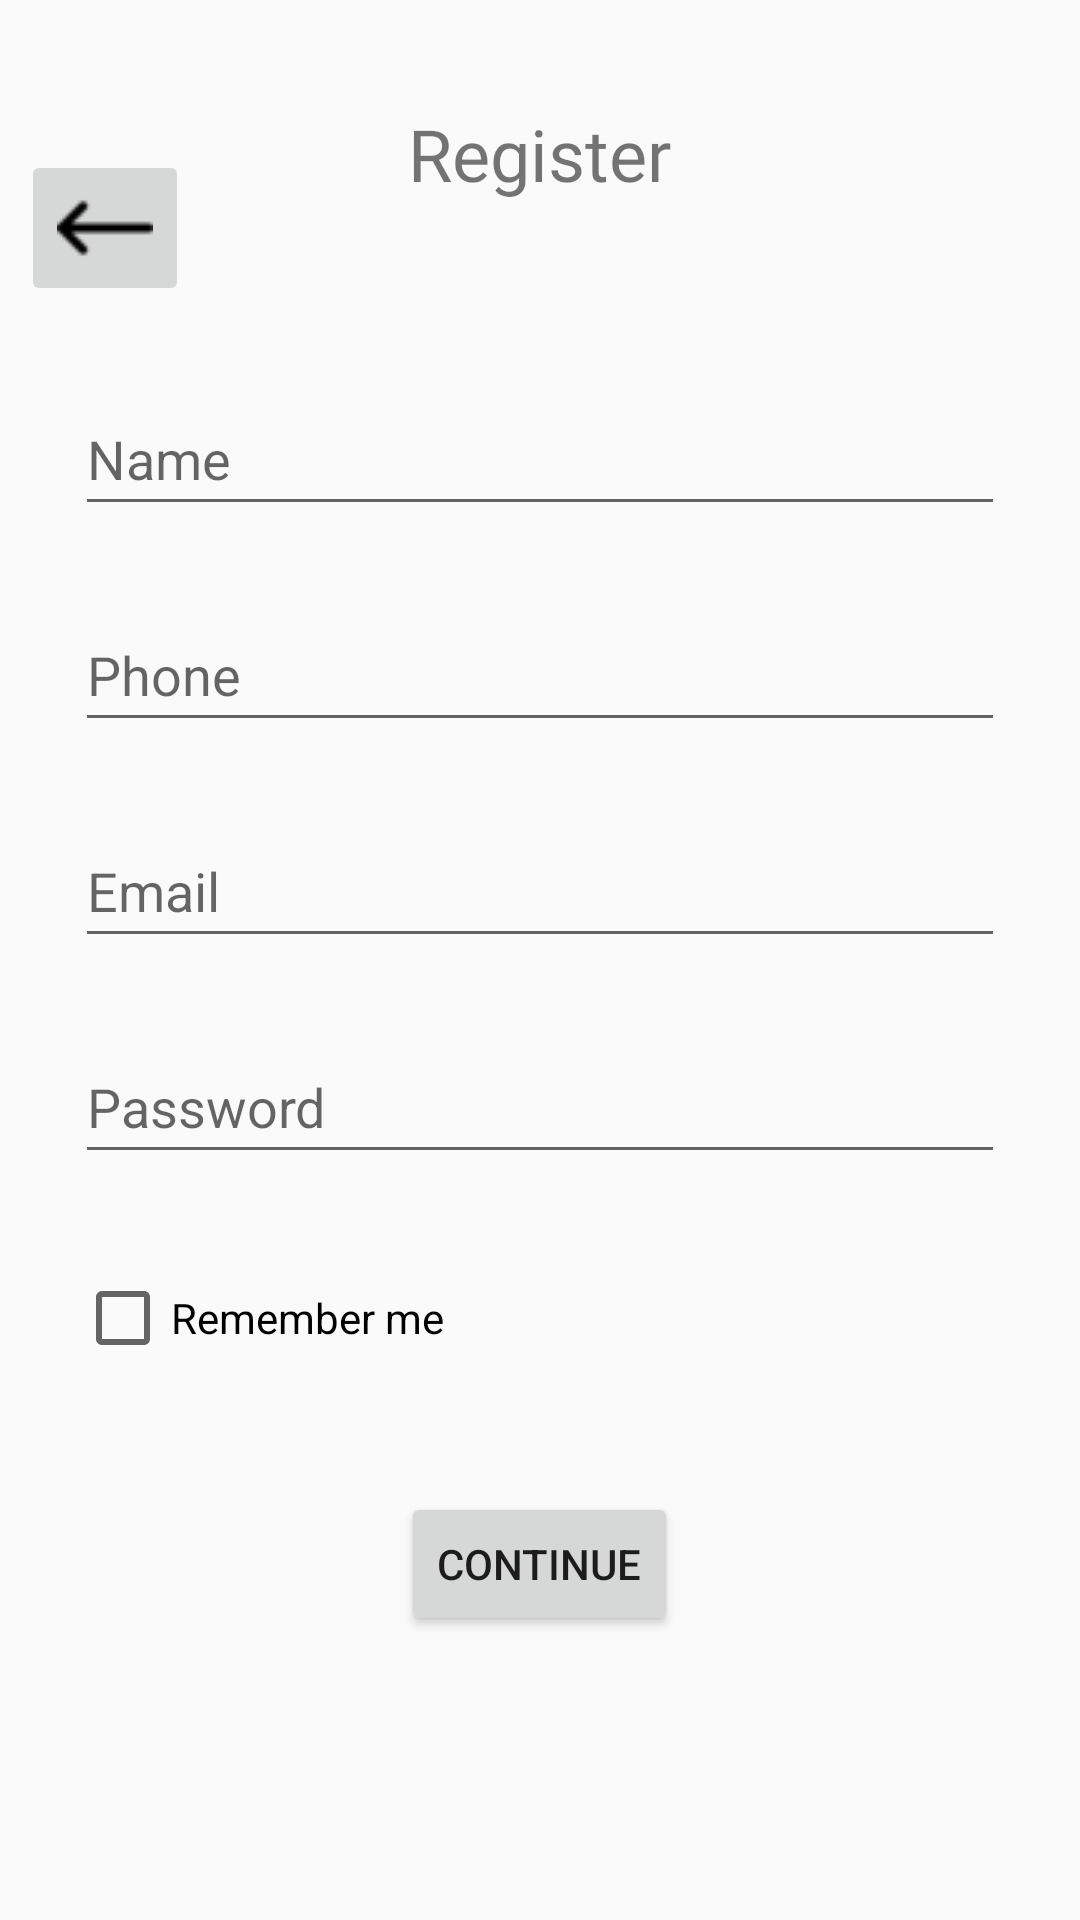

Where icons sit on this 1080px×1920px app screen, as rect(x1, y1, x2, y2):
Back: rect(33, 168, 177, 288)
